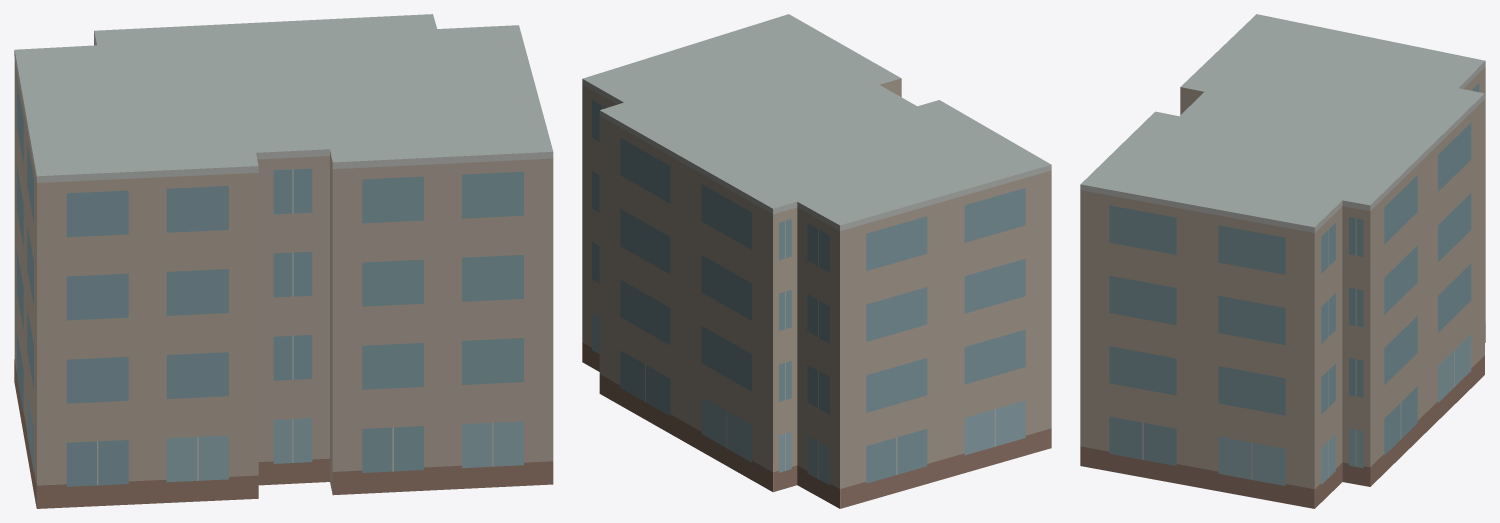
File: survey-upis-32657059.glb
3 views of the same model, side by side, from view 1: azimuth 30°, elevation 25°; view 2: azimuth 150°, elevation 25°; view 3: azimuth 270°, elevation 25° (orthographic). The views are drawn at different scales.
Parts seen in each view (by area): view 1: survey-upis-32657059.tmp; view 2: survey-upis-32657059.tmp; view 3: survey-upis-32657059.tmp.
Boxes of the visible parts, x1=… form: survey-upis-32657059.tmp: x1=14, y1=14, x2=553, y2=508; survey-upis-32657059.tmp: x1=582, y1=14, x2=1051, y2=508; survey-upis-32657059.tmp: x1=1080, y1=14, x2=1485, y2=508.
Size of the model in its own units: 19.61 by 12.06 by 15.74.
